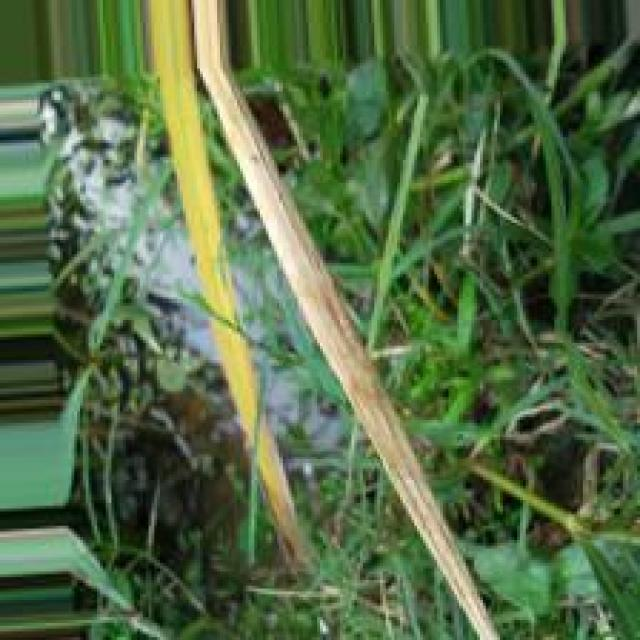Bacterial_Leaf_Blight: (202, 69, 497, 639)
